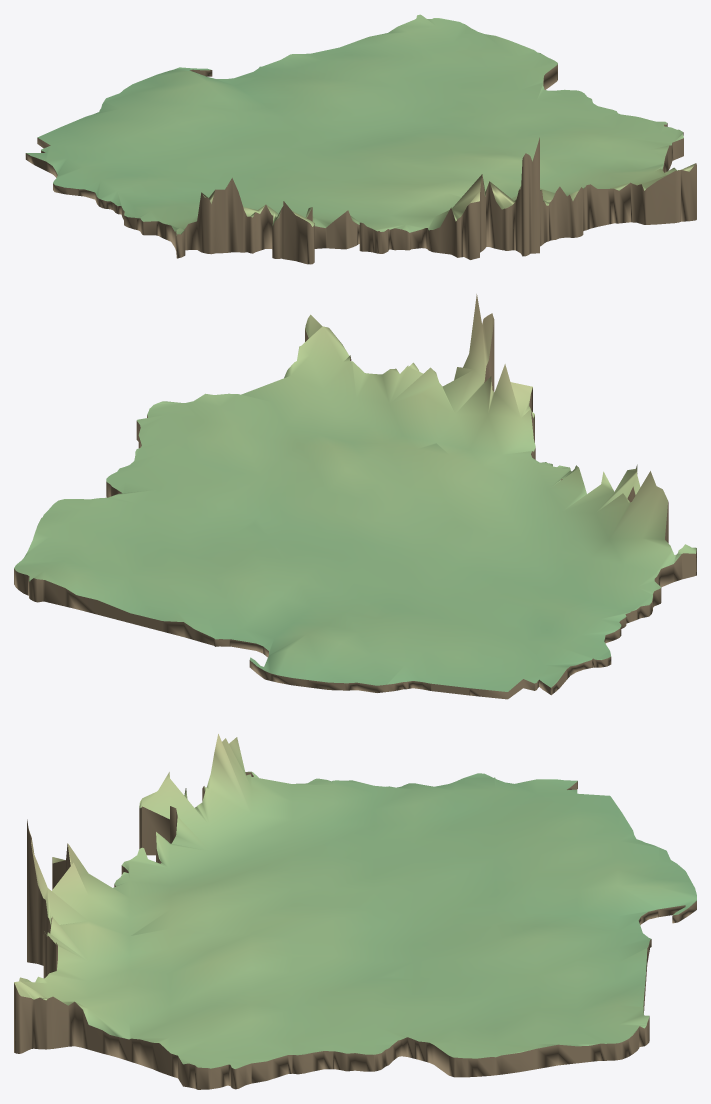
Rendered from POL.glb.
3 views of the same model, one above another, from view 1: azimuth 30°, elevation 25°; view 2: azimuth 150°, elevation 25°; view 3: azimuth 270°, elevation 25° (orthographic). The views are drawn at different scales.
Parts seen in each view (by area): view 1: POL; view 2: POL; view 3: POL.
Part boxes in pixels (left/top/right/bottom): POL: left=25, top=14, right=696, bottom=264; POL: left=14, top=294, right=696, bottom=699; POL: left=14, top=734, right=696, bottom=1089.
Bounding box in the file's own units: 1.56 × 0.338 × 1.46.
